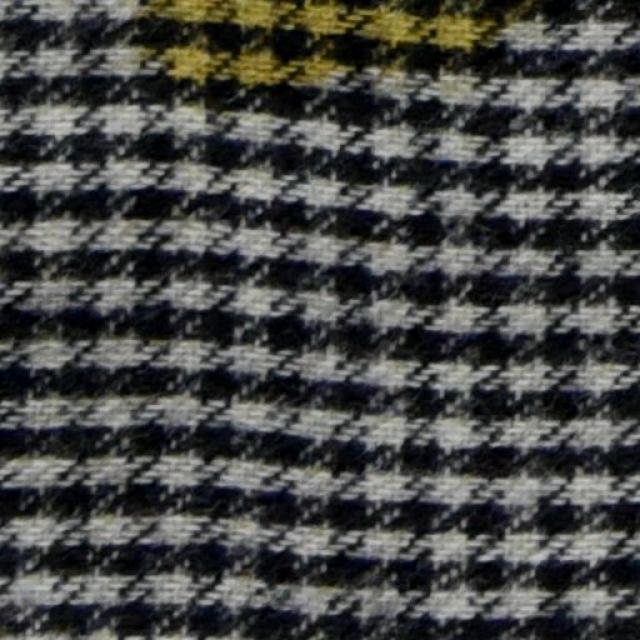Stain: (121, 1, 526, 107)
